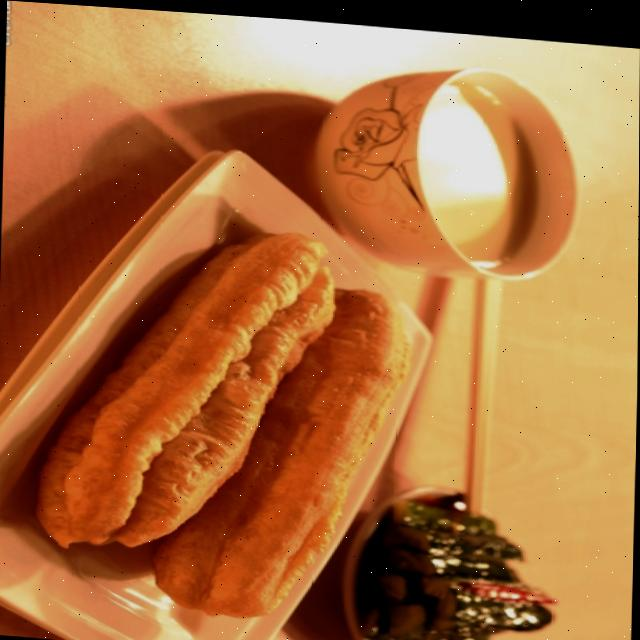炸货点心: (13, 49, 587, 640)
